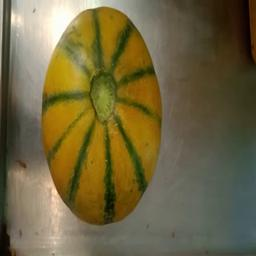Melon Semifresh: (39, 2, 168, 232)
